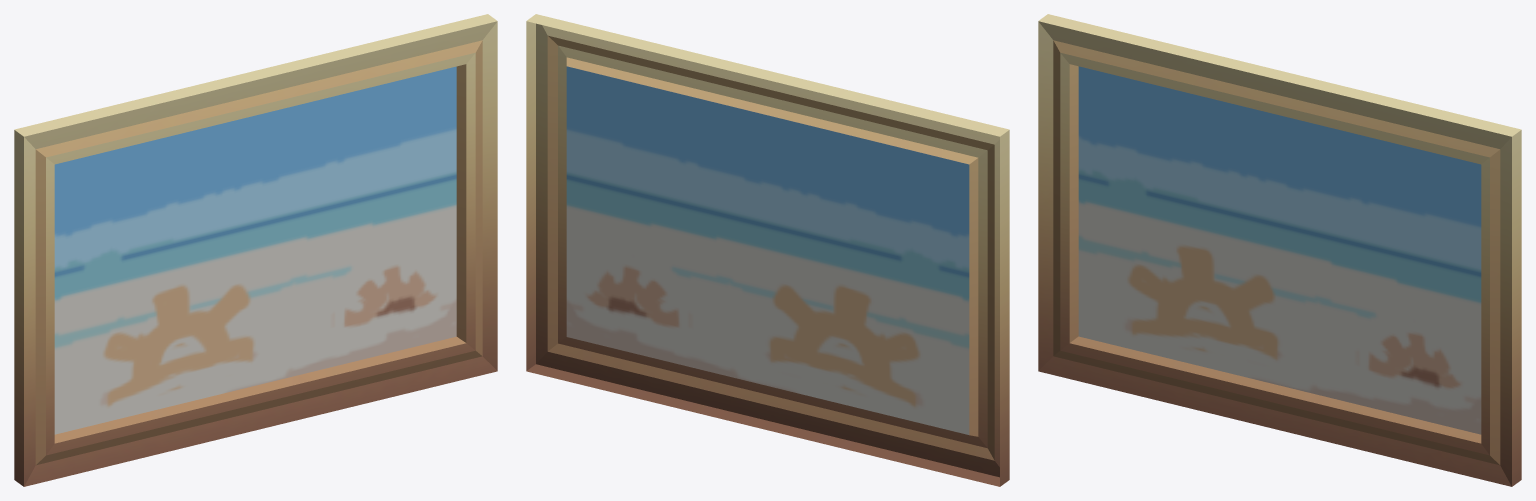
The model's file is M_Prop_Picture_003.fbx.
3 renders of one model, left to right at view 1: azimuth 30°, elevation 25°; view 2: azimuth 150°, elevation 25°; view 3: azimuth 330°, elevation 25°, orthographic.
Parts seen in each view (by area): view 1: Frame; view 2: Frame; view 3: Frame.
Part boxes in pixels (bbox=[...]): Frame: bbox=[14, 14, 497, 486]; Frame: bbox=[526, 14, 1009, 486]; Frame: bbox=[1038, 14, 1521, 486].
Bounding box in the file's own units: 163 × 115 × 5.83.
